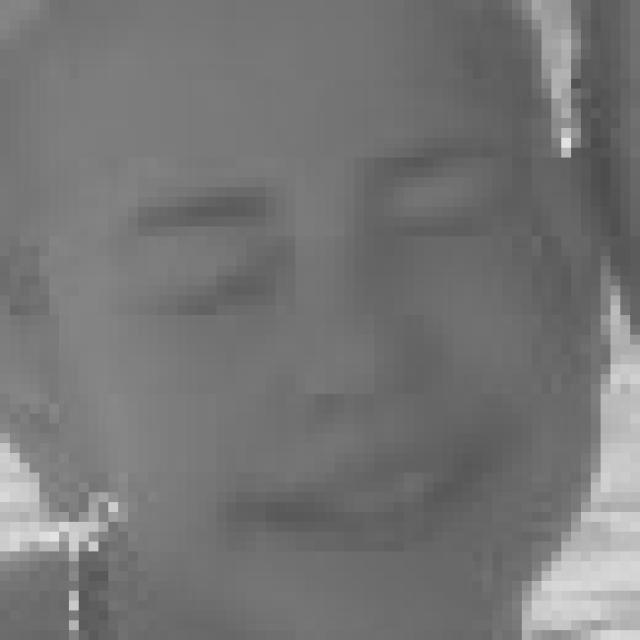real: (57, 66, 596, 596), (106, 146, 522, 318)
